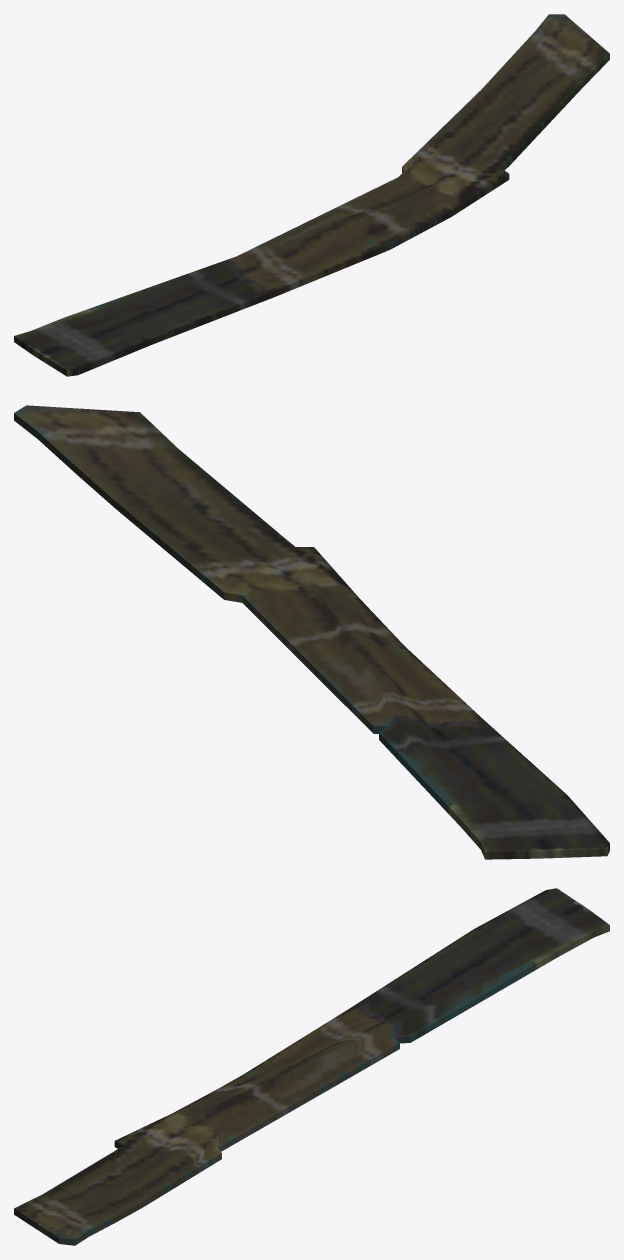
File: Bridge.fbx
3 views of the same model, one above another, from view 1: azimuth 90°, elevation 25°; view 2: azimuth 150°, elevation 25°; view 3: azimuth 270°, elevation 25° (orthographic). The views are drawn at different scales.
Parts seen in each view (by area): view 1: Bridge; view 2: Bridge; view 3: Bridge.
Part boxes in pixels (x1=…): Bridge: x1=14, y1=14, x2=609, y2=376; Bridge: x1=14, y1=405, x2=609, y2=859; Bridge: x1=14, y1=888, x2=609, y2=1245.
Size of the model in its own units: 1274 by 70.62 by 907.
